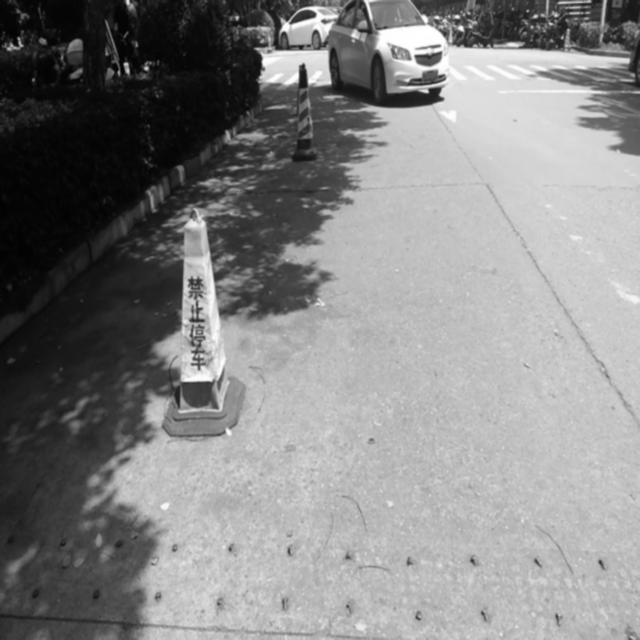car: (326, 0, 449, 101), (278, 5, 338, 50)
reflective_cone: (162, 206, 244, 432), (290, 62, 318, 160), (562, 27, 571, 52), (266, 34, 272, 53)
